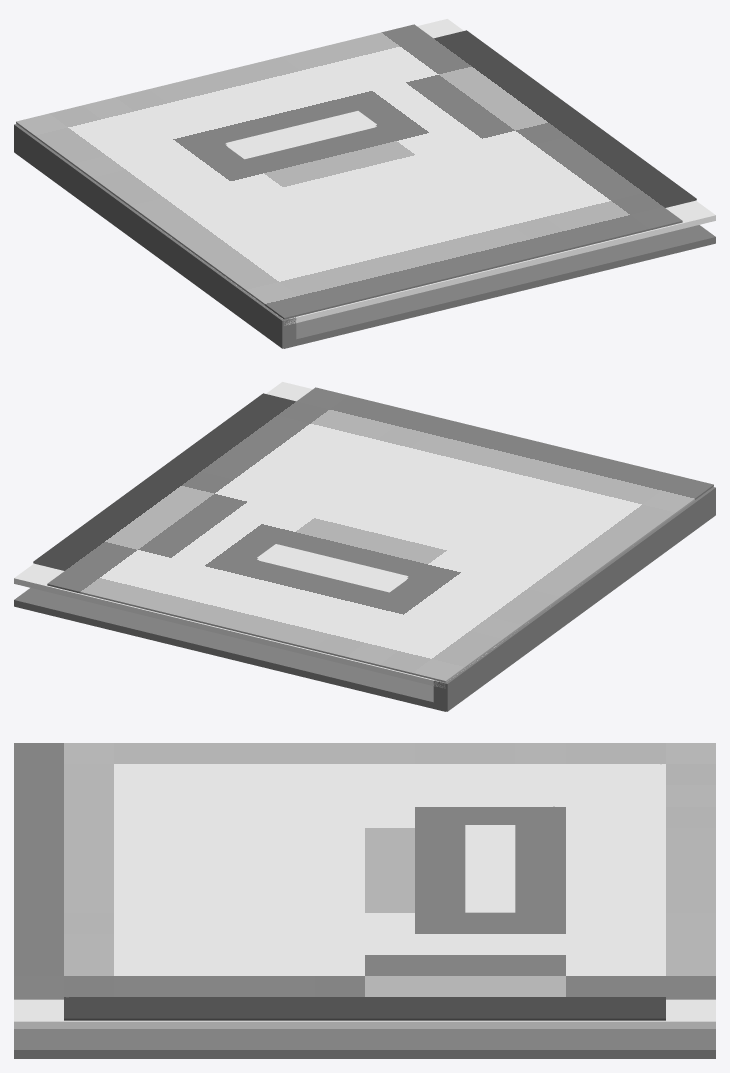
File: CMU3DBoxFolderBasePrintedSmallCloud.glb
The picture shows the model from 3 angles, top to bottom: view 1: azimuth 30°, elevation 25°; view 2: azimuth 150°, elevation 25°; view 3: azimuth 270°, elevation 25°; orthographic projection. The views are drawn at different scales.
Visible parts, largest first — view 1: original white folder color layer, thin folder back leaf, folded folder spine, raised top folder leaf, original folder border and label; view 2: original white folder color layer, thin folder back leaf, folded folder spine, raised top folder leaf, original folder border and label; view 3: original white folder color layer, thin folder back leaf, raised top folder leaf, original folder border and label.
Part boxes in pixels (x1,y1,x2,y2): original white folder color layer: [16, 24, 696, 319]; thin folder back leaf: [284, 225, 715, 348]; folded folder spine: [14, 124, 296, 348]; raised top folder leaf: [171, 19, 715, 325]; original folder border and label: [225, 111, 376, 158]; original white folder color layer: [33, 387, 713, 682]; thin folder back leaf: [14, 588, 445, 711]; folded folder spine: [433, 487, 715, 711]; raised top folder leaf: [14, 382, 528, 688]; original folder border and label: [257, 544, 408, 591]; original white folder color layer: [14, 743, 715, 1020]; thin folder back leaf: [14, 1029, 715, 1058]; raised top folder leaf: [14, 912, 715, 1028]; original folder border and label: [465, 825, 515, 911].
Bounding box in the file's own units: 0.408 × 0.0297 × 0.4375.
Materials: 5 (2 with a texture image).
